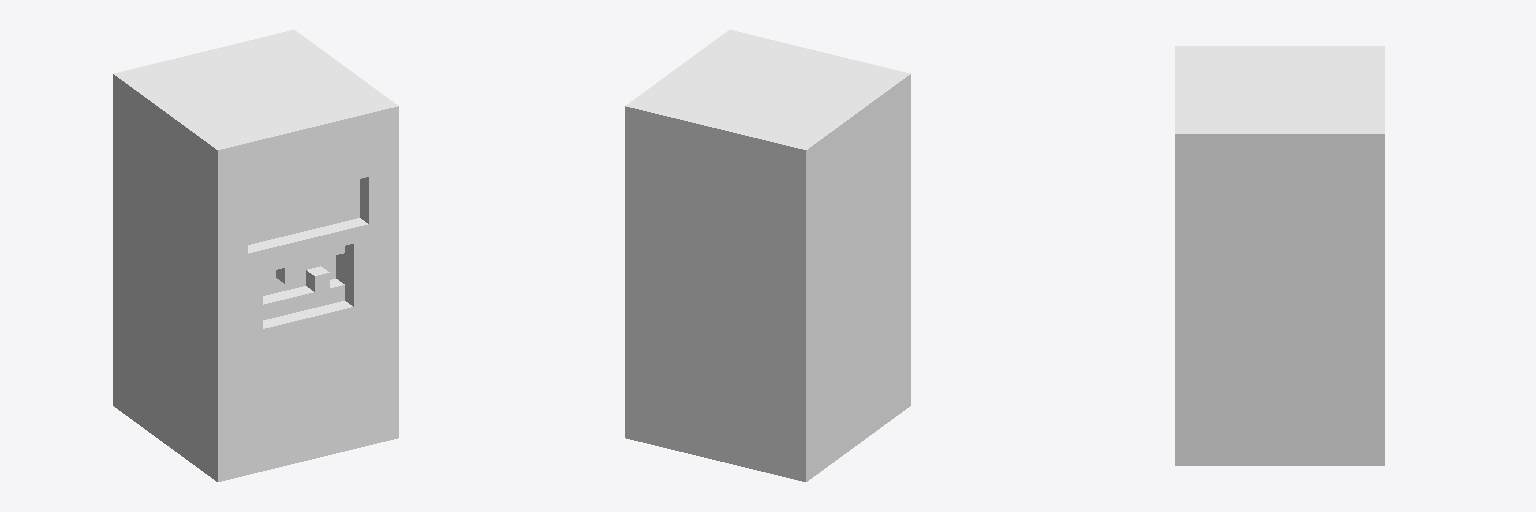
File: Mummy-4.obj
The picture shows the model from 3 angles: view 1: azimuth 30°, elevation 25°; view 2: azimuth 150°, elevation 25°; view 3: azimuth 270°, elevation 25°; orthographic projection.
Visible parts, largest first — view 1: object 1; view 2: object 1; view 3: object 1.
Boxes of the visible parts, box(x1,y1,x2,y2) form: object 1: box(113, 30, 398, 481); object 1: box(625, 30, 910, 481); object 1: box(1175, 46, 1384, 465).
Bounding box in the file's own units: 1.2 × 2.1 × 1.2.